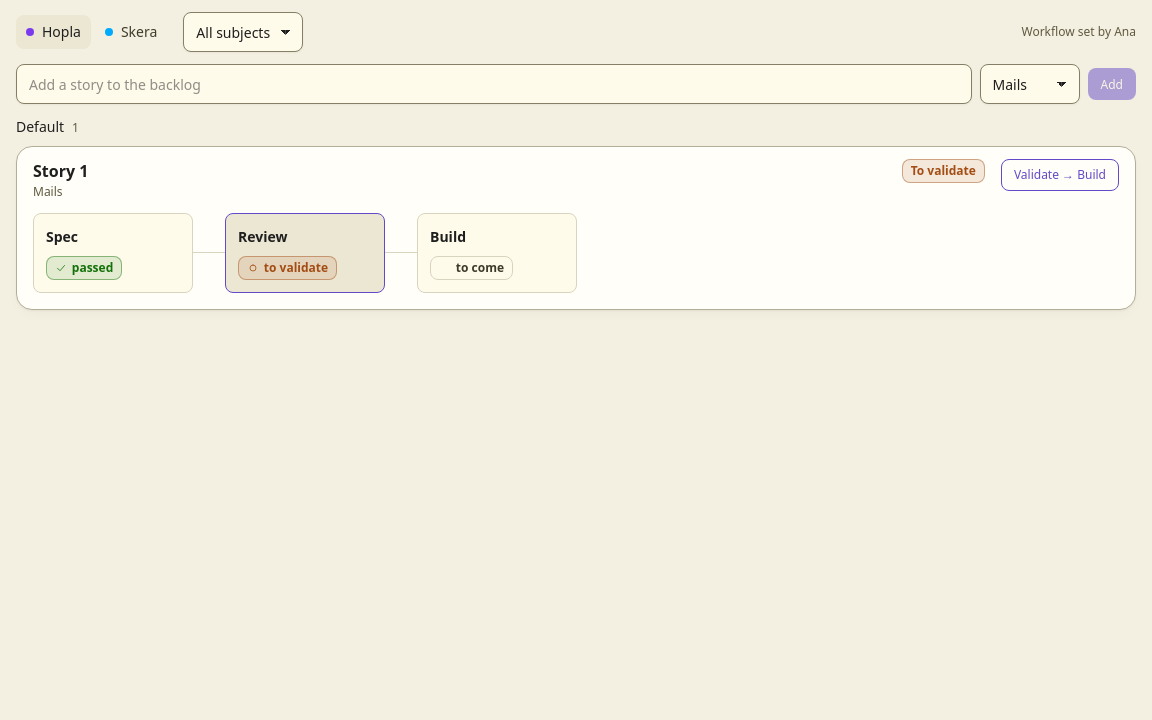
the step history › opens a step already passed in read only, without any reply field nor action
This screenshot has width=1152, height=720.
What coordinates should you click on to do the following:
click the button "Spec passed"
I would click on:
 (113, 253)
Its box is left=33, top=213, right=193, bottom=293.
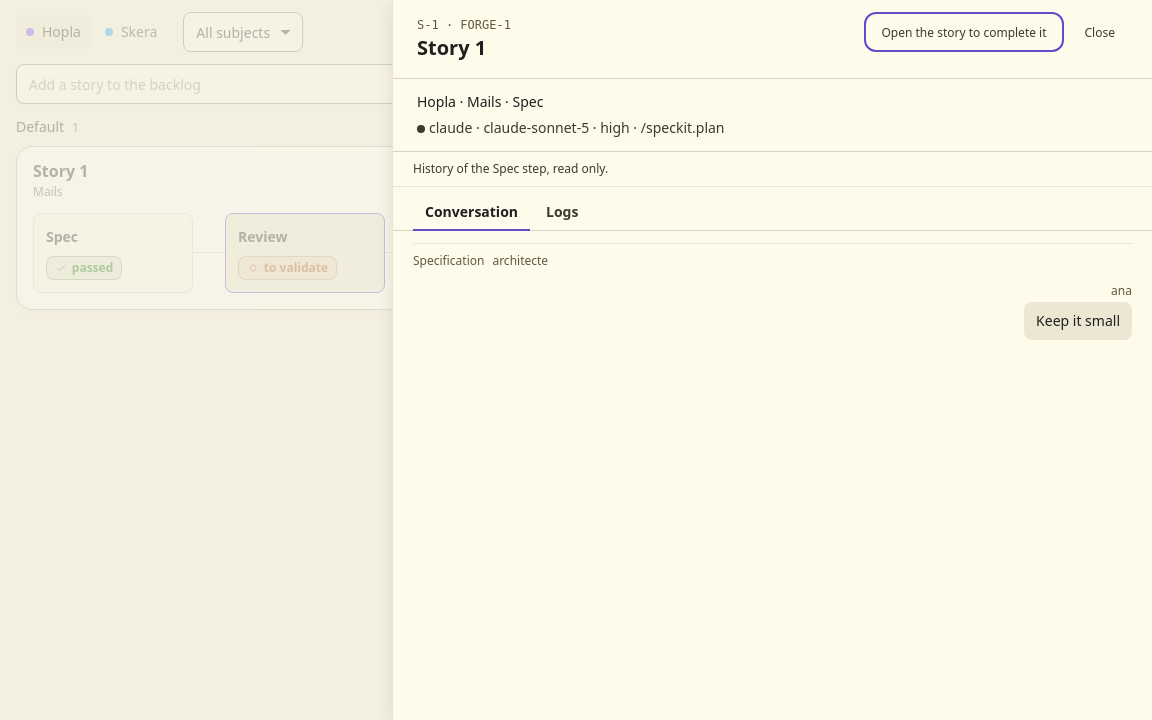
Now the text with test id "forge-drawer-history" shows "History of the Spec step", box left=413, top=160, right=608, bottom=177
Now the dialog with test id "forge-drawer" shows "Keep it small", box left=1036, top=311, right=1120, bottom=330
